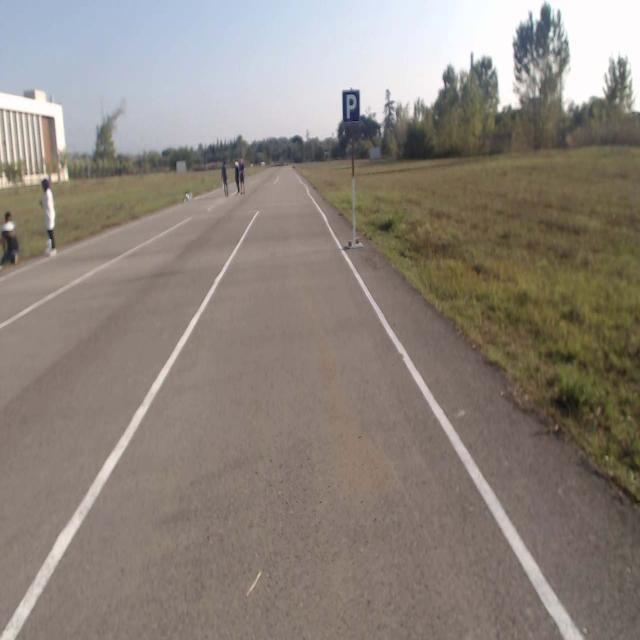park: (342, 92, 360, 122)
